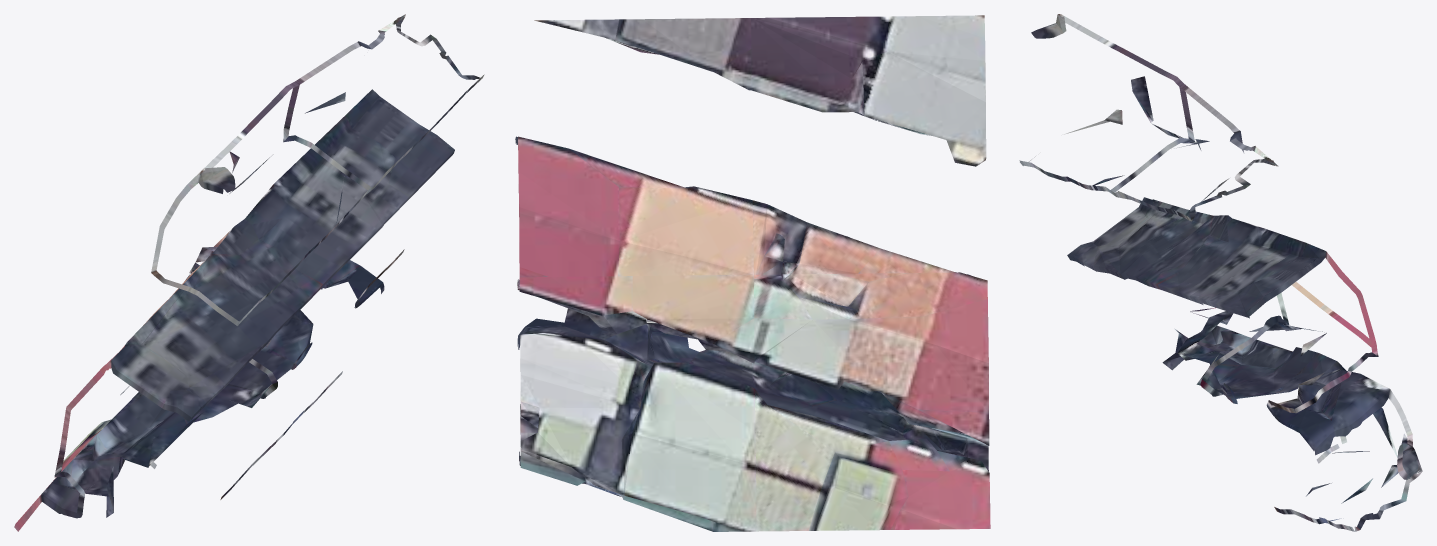
The picture shows the model from 3 angles, left to right: view 1: azimuth 30°, elevation 25°; view 2: azimuth 150°, elevation 25°; view 3: azimuth 270°, elevation 25°; orthographic projection. The views are drawn at different scales.
Size of the model in its own units: 40.26 by 38.53 by 31.89.
Materials: 2 (2 with a texture image).
